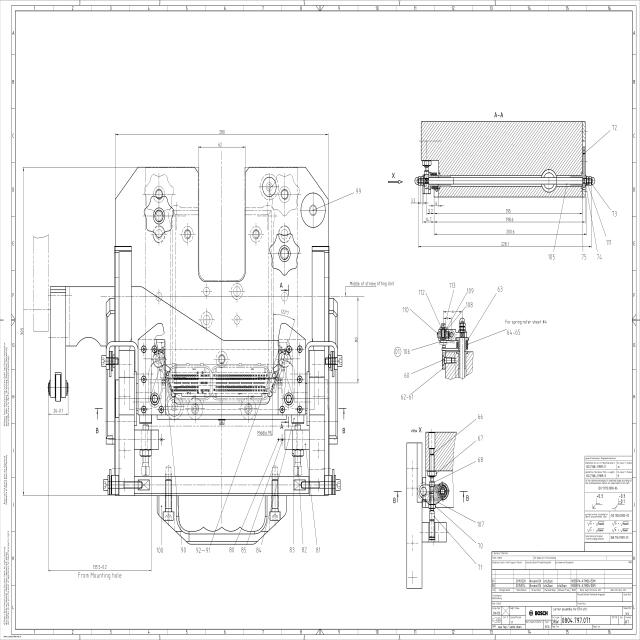dimension: (113, 128, 330, 199), (18, 162, 33, 499), (47, 538, 153, 581), (416, 240, 593, 250), (431, 228, 588, 238), (432, 206, 584, 216), (421, 216, 586, 225), (196, 141, 247, 168), (346, 295, 359, 385), (402, 381, 422, 410), (350, 176, 368, 202), (398, 299, 416, 323), (46, 400, 70, 417), (476, 450, 493, 470), (397, 342, 413, 363), (275, 308, 295, 324), (475, 408, 493, 422), (409, 193, 427, 206), (494, 283, 509, 298), (475, 514, 489, 529), (437, 309, 457, 319), (475, 540, 489, 554), (477, 561, 490, 576), (475, 432, 487, 444), (400, 368, 414, 378), (426, 205, 434, 215), (433, 200, 442, 208)
